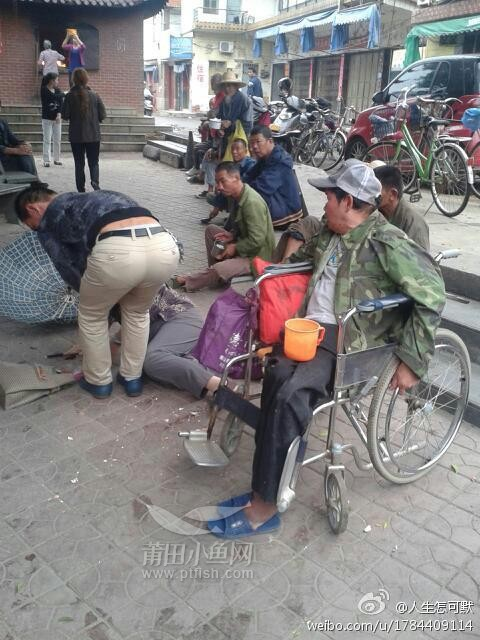fall: (122, 269, 252, 418)
